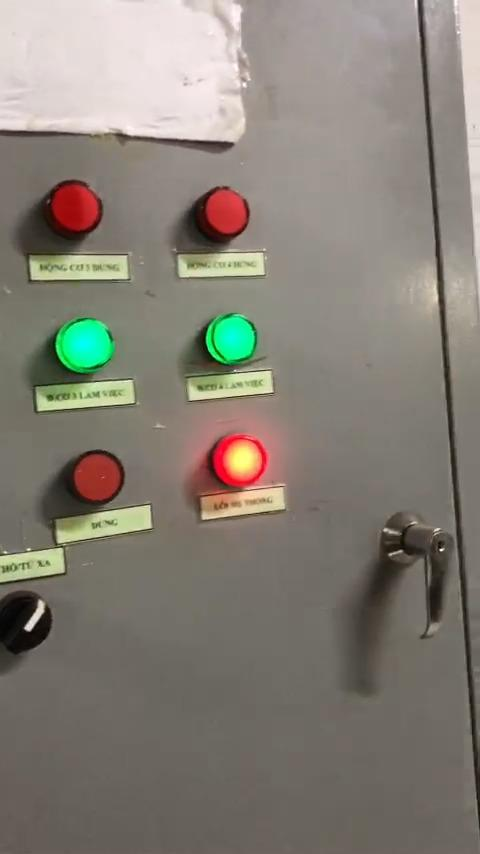led: (38, 176, 108, 243), (53, 315, 116, 380), (207, 431, 269, 491), (64, 445, 126, 505), (194, 185, 253, 244), (202, 308, 259, 369)
twist: (0, 586, 57, 654)
